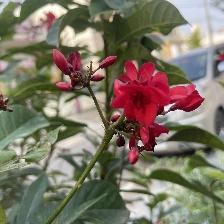jatropha: (111, 80, 170, 128), (170, 82, 210, 117)
